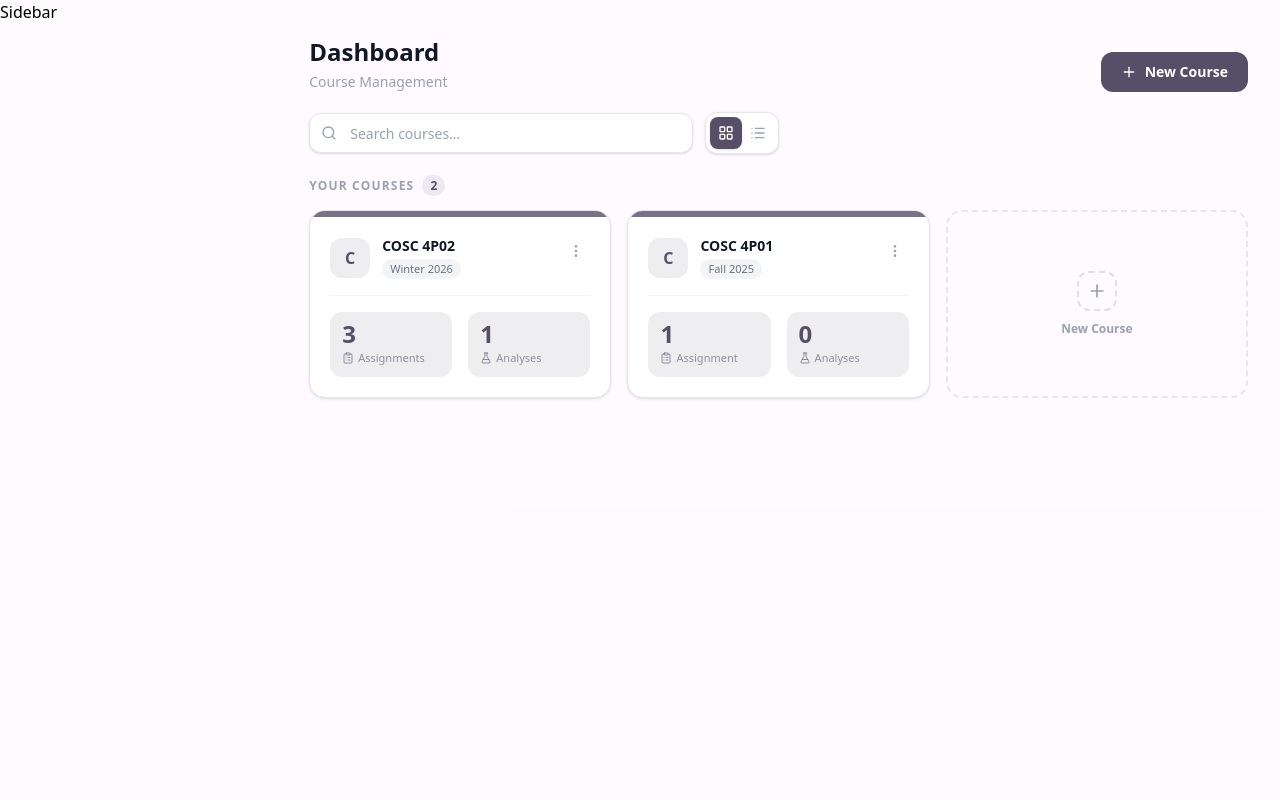
Scenario: HomePage › opens the create course modal when New is clicked
Click the button "New Course" in the row of "Course Management" at coordinates (1174, 72), box x1=1101 y1=52 x2=1248 y2=92
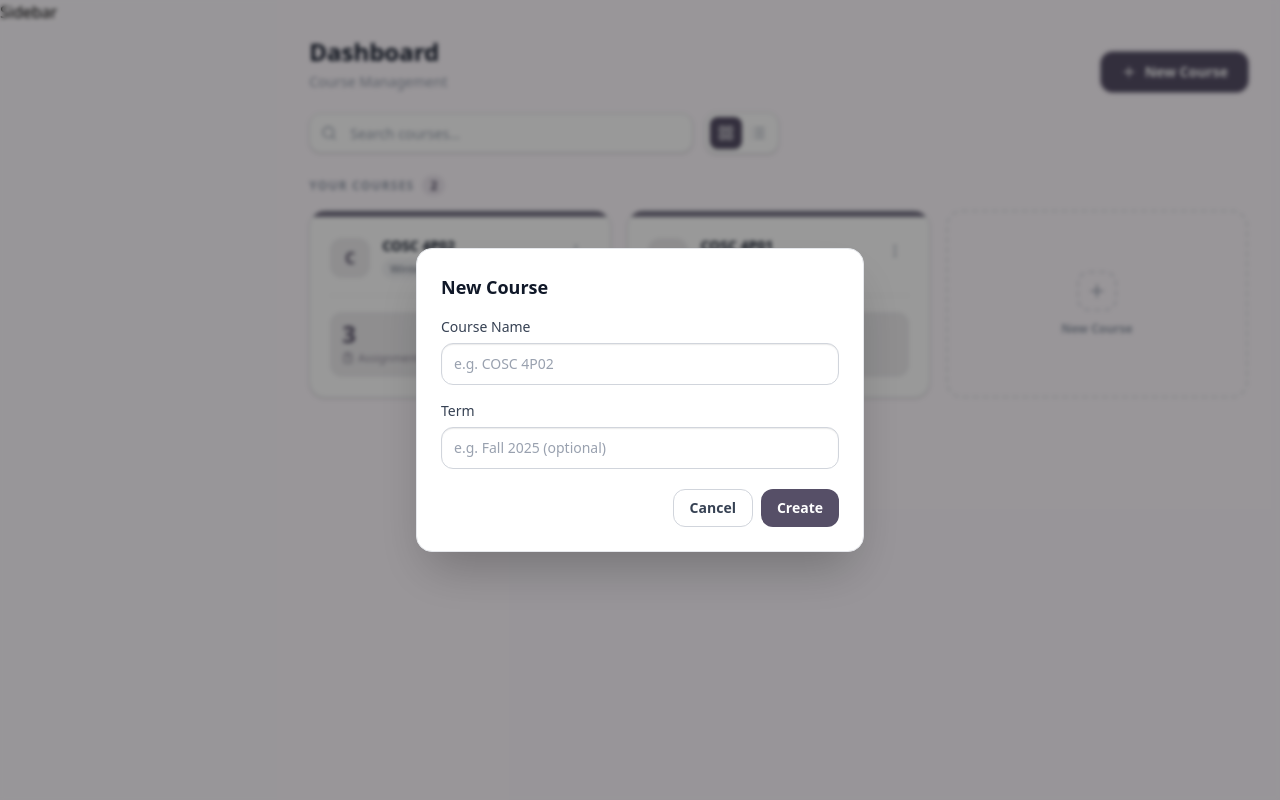
Expected: the heading "New Course" is shown, x1=441 y1=275 x2=548 y2=299
Expected: the button "Create" is shown, x1=761 y1=489 x2=839 y2=527
